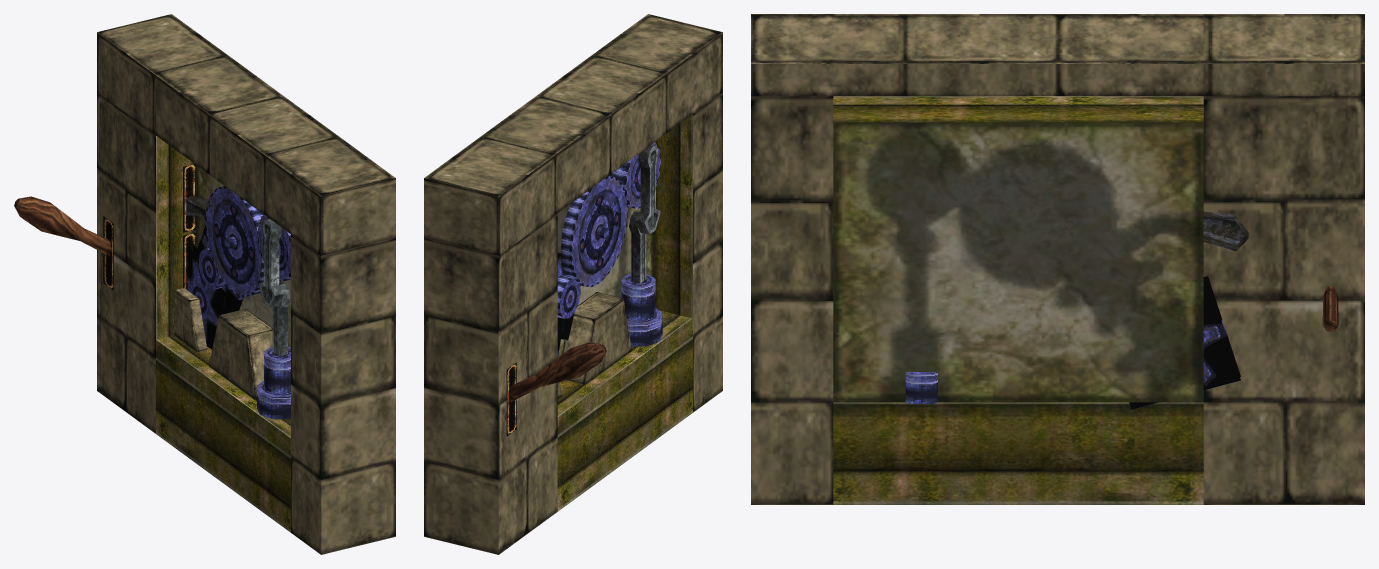
File: INST_PUZZLE_BIND.fbx
3 views of the same model, side by side, from view 1: azimuth 30°, elevation 25°; view 2: azimuth 150°, elevation 25°; view 3: azimuth 270°, elevation 25° (orthographic). The views are drawn at different scales.
Parts seen in each view (by area): view 1: INST_PUZZLE_BIND; view 2: INST_PUZZLE_BIND; view 3: INST_PUZZLE_BIND.
Part boxes in pixels (box(x1,y1,x2,y2)): INST_PUZZLE_BIND: box(14, 14, 395, 554); INST_PUZZLE_BIND: box(424, 14, 722, 554); INST_PUZZLE_BIND: box(751, 14, 1364, 504).
Size of the model in its own units: 7983 by 16151 by 18302.
Materials: 26 (26 with a texture image).
